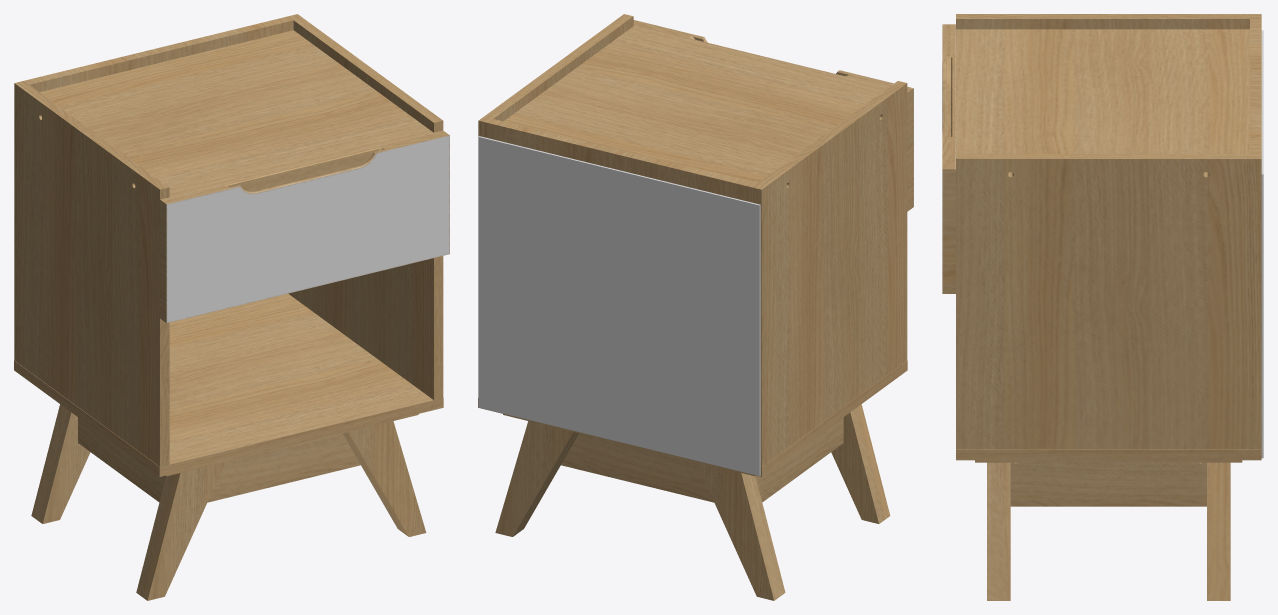
The picture shows the model from 3 angles, left to right: view 1: azimuth 30°, elevation 25°; view 2: azimuth 150°, elevation 25°; view 3: azimuth 270°, elevation 25°; orthographic projection. The views are drawn at different scales.
Visible parts, largest first — view 1: Simetruc801732330-COSTADOSCO, A732330-FRENTESXCA, A732330-TAPASXXXTA, A732330-PISOSXXXPI, A732330-COSTADOSCO, Pata 191, A732330-ZOCALOSXFR, Pata 200, A732330-FAJASXXXFR, Pata 194, A732330-ZOCALOSXLA; view 2: A732330-FONDOSXXMU, Simetruc801732330-COSTADOSCO, A732330-TAPASXXXTA, A732330-FAJASXXXFR, Pata 194, A732330-ZOCALOSXFR001, Pata 197, Pata 191, A732330-COSTADOSCO, A732330-ZOCALOSXLA, A732330-FRENTESXCA, A732330-PISOSXXXPI; view 3: A732330-COSTADOSCO, A732330-TAPASXXXTA, A732330-ZOCALOSXLA001, Simetruc801732330-COSTADOSCO, A732330-FRENTESXCA, A732330-PISOSXXXPI, Pata 197, Pata 200, A732330-FAJASXXXFR, A732330-FONDOSXXMU, A732330-PATASXXXBA.
Part boxes in pixels (<box>): Simetruc801732330-COSTADOSCO: <box>14,81,169,466</box>; A732330-FRENTESXCA: <box>160,130,449,323</box>; A732330-TAPASXXXTA: <box>39,30,433,196</box>; A732330-PISOSXXXPI: <box>14,294,443,476</box>; A732330-COSTADOSCO: <box>288,14,443,399</box>; Pata 191: <box>136,462,225,600</box>; A732330-ZOCALOSXFR: <box>207,433,360,502</box>; Pata 200: <box>342,421,426,536</box>; A732330-FAJASXXXFR: <box>24,16,293,91</box>; Pata 194: <box>31,404,90,523</box>; A732330-ZOCALOSXLA: <box>78,417,165,502</box>; A732330-FONDOSXXMU: <box>478,136,760,475</box>; Simetruc801732330-COSTADOSCO: <box>752,81,907,466</box>; A732330-TAPASXXXTA: <box>503,26,887,183</box>; A732330-FAJASXXXFR: <box>488,119,757,202</box>; Pata 194: <box>696,462,785,600</box>; A732330-ZOCALOSXFR001: <box>561,433,713,502</box>; Pata 197: <box>495,421,578,536</box>; Pata 191: <box>831,404,890,523</box>; A732330-COSTADOSCO: <box>478,14,633,137</box>; A732330-ZOCALOSXLA: <box>755,417,843,502</box>; A732330-FRENTESXCA: <box>633,20,913,211</box>; A732330-PISOSXXXPI: <box>478,360,907,476</box>; A732330-COSTADOSCO: <box>956,154,1261,449</box>; A732330-TAPASXXXTA: <box>956,29,1249,172</box>; A732330-ZOCALOSXLA001: <box>1010,462,1206,506</box>; Simetruc801732330-COSTADOSCO: <box>956,14,1261,29</box>; A732330-FRENTESXCA: <box>942,24,955,293</box>; A732330-PISOSXXXPI: <box>956,449,1261,460</box>; Pata 197: <box>1207,462,1230,600</box>; Pata 200: <box>987,462,1010,600</box>; A732330-FAJASXXXFR: <box>1250,19,1261,153</box>; A732330-FONDOSXXMU: <box>1261,30,1263,458</box>; A732330-PATASXXXBA: <box>975,460,1242,462</box>.
Size of the model in its own units: 0.45 by 0.64 by 0.421.
Materials: 1 (1 with a texture image).
